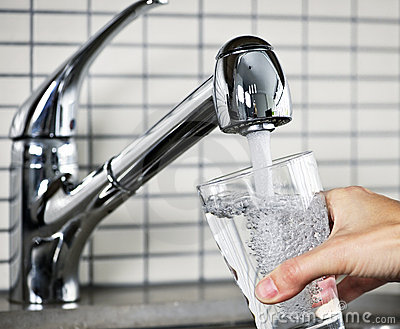glass of water: (216, 169, 315, 315)
